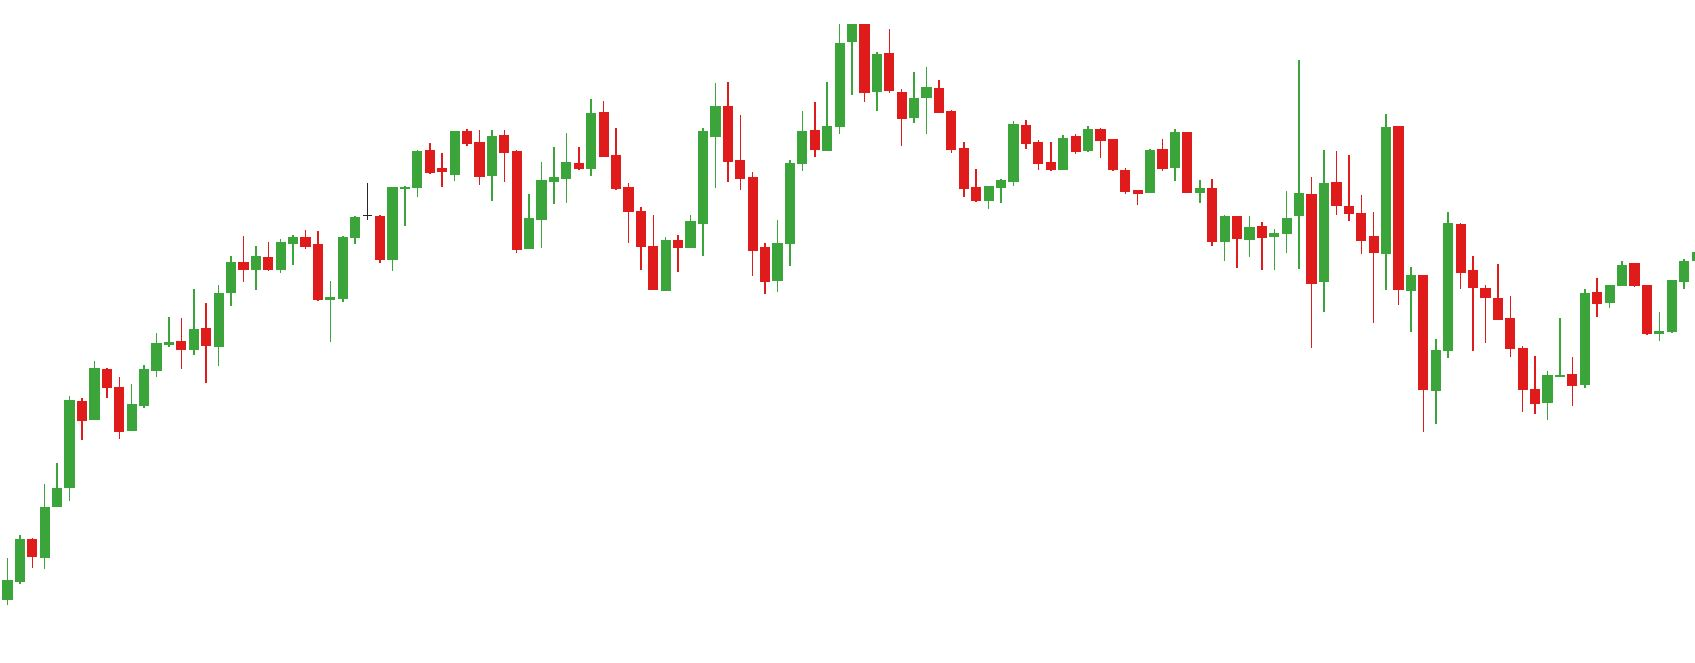buy: (511, 160, 675, 299), (248, 249, 350, 339)
sell: (1320, 115, 1409, 233)
